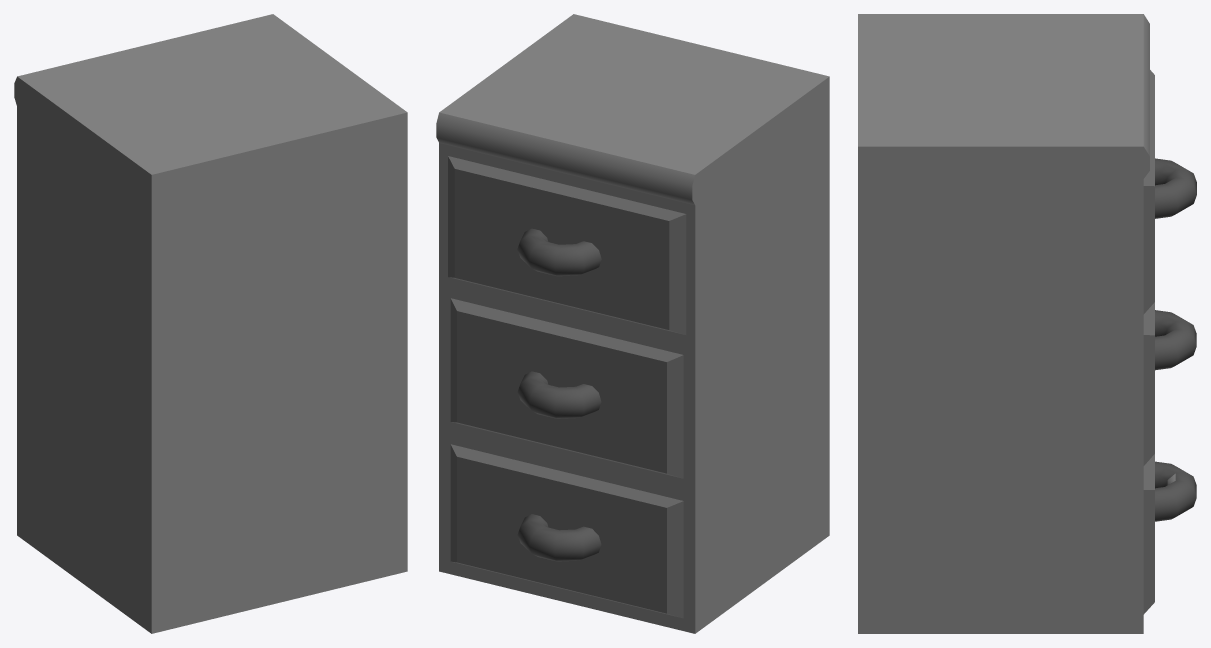
The model's file is Cupboard#3Model.fbx.
3 renders of one model, left to right at view 1: azimuth 30°, elevation 25°; view 2: azimuth 150°, elevation 25°; view 3: azimuth 270°, elevation 25°, orthographic. The views are drawn at different scales.
Visible parts, largest first — view 1: Cupboard#3Model; view 2: Cupboard#3Model; view 3: Cupboard#3Model.
Boxes of the visible parts, x1,y1,x2,y2 form: Cupboard#3Model: (14,14,407,633); Cupboard#3Model: (436,14,829,633); Cupboard#3Model: (858,14,1196,633).
Size of the model in its own units: 66.3 by 114 by 71.56.
